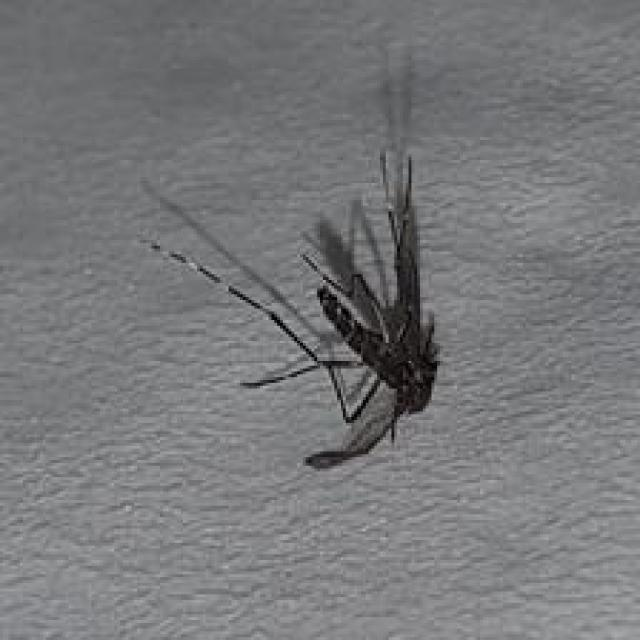Aedes albopictus: (139, 38, 447, 473)
